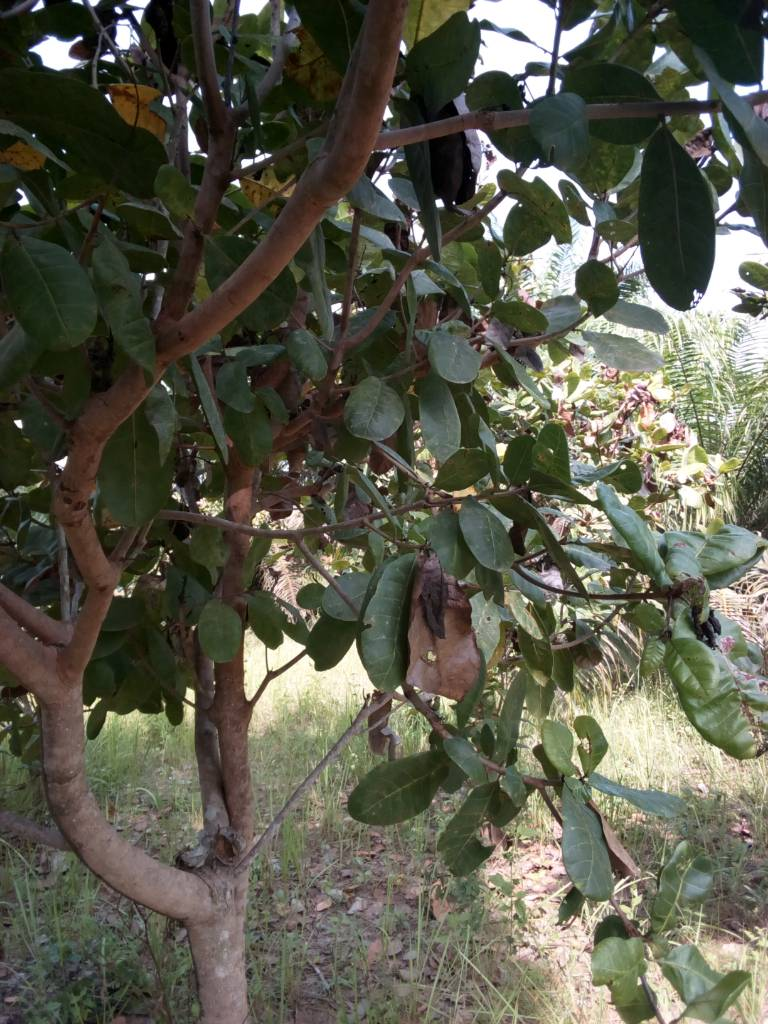Dessèchement des bourgeons: (408, 552, 483, 699), (661, 586, 727, 644)
